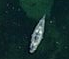ship: (21, 13, 53, 54)
